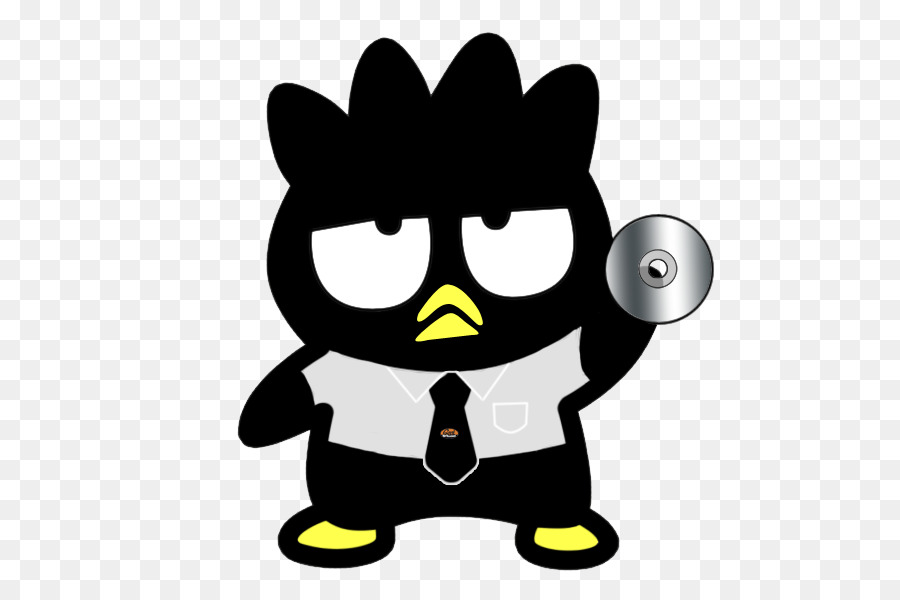batsumaru: (241, 30, 670, 571)
